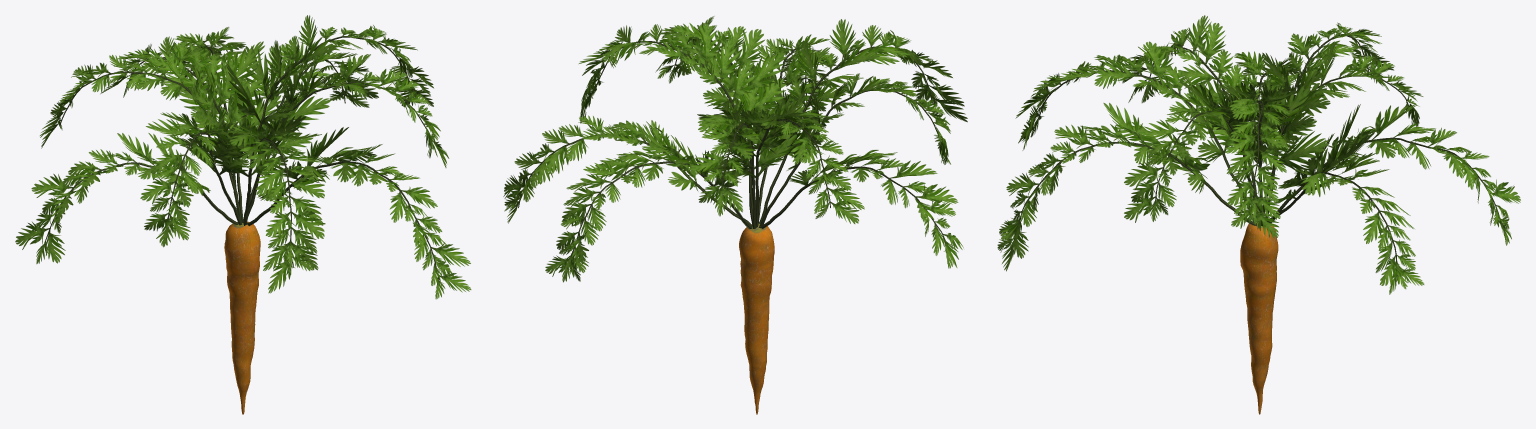
File: carrot.glb
3 views of the same model, side by side, from view 1: azimuth 30°, elevation 25°; view 2: azimuth 150°, elevation 25°; view 3: azimuth 270°, elevation 25° (orthographic).
Visible parts, largest first — view 1: Carrot_01; view 2: Carrot_01; view 3: Carrot_01.
Part boxes in pixels (x1,y1,x2,y2): Carrot_01: [15, 15, 471, 414]; Carrot_01: [503, 16, 967, 414]; Carrot_01: [997, 15, 1520, 414].
Size of the model in its own units: 0.6974 by 0.6 by 0.772.
Materials: 3 (3 with a texture image).
